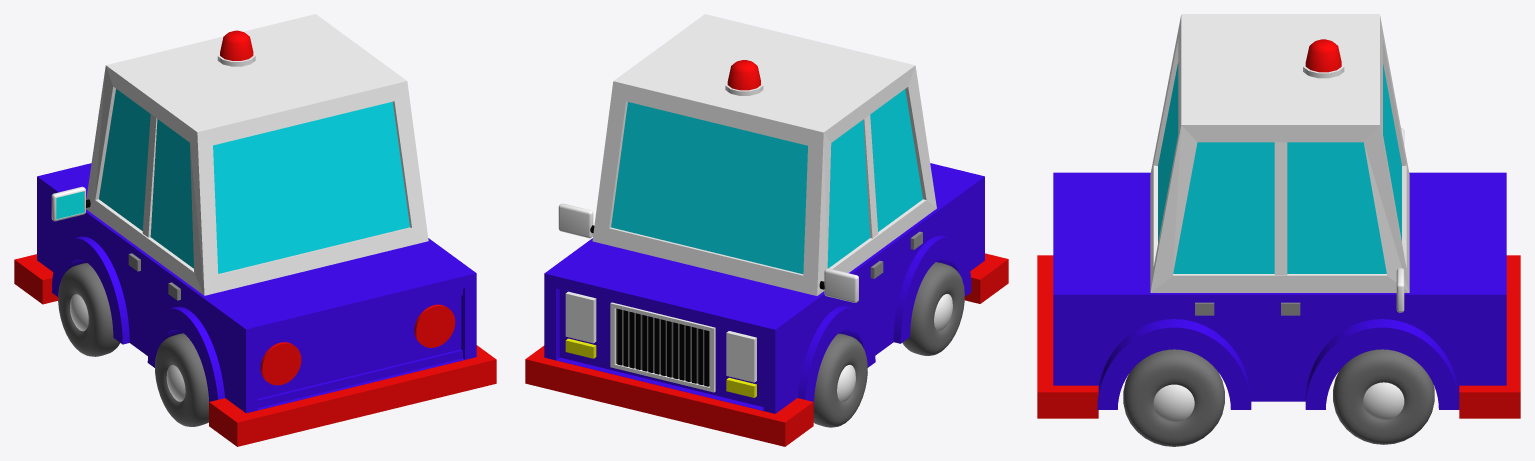
File: police.FBX
3 views of the same model, side by side, from view 1: azimuth 30°, elevation 25°; view 2: azimuth 150°, elevation 25°; view 3: azimuth 270°, elevation 25° (orthographic). The views are drawn at different scales.
Visible parts, largest first — view 1: police; view 2: police; view 3: police.
Part boxes in pixels (x1,y1,x2,y2): police: (14,14,496,446); police: (525,14,1008,446); police: (1037,14,1520,446).
Size of the model in its own units: 9.04 by 9.01 by 11.72.
